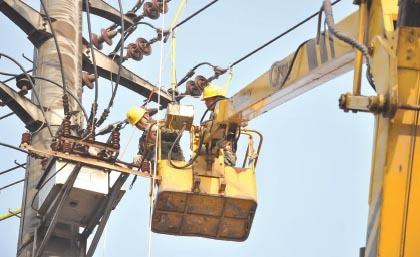gloves: (132, 155, 142, 166)
hard-hat: (199, 85, 224, 101), (126, 105, 146, 124)
person: (127, 105, 185, 185), (200, 85, 238, 166)
